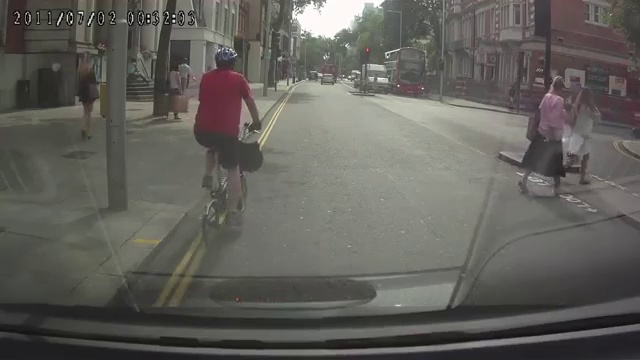cyclist_back: (193, 44, 265, 253)
